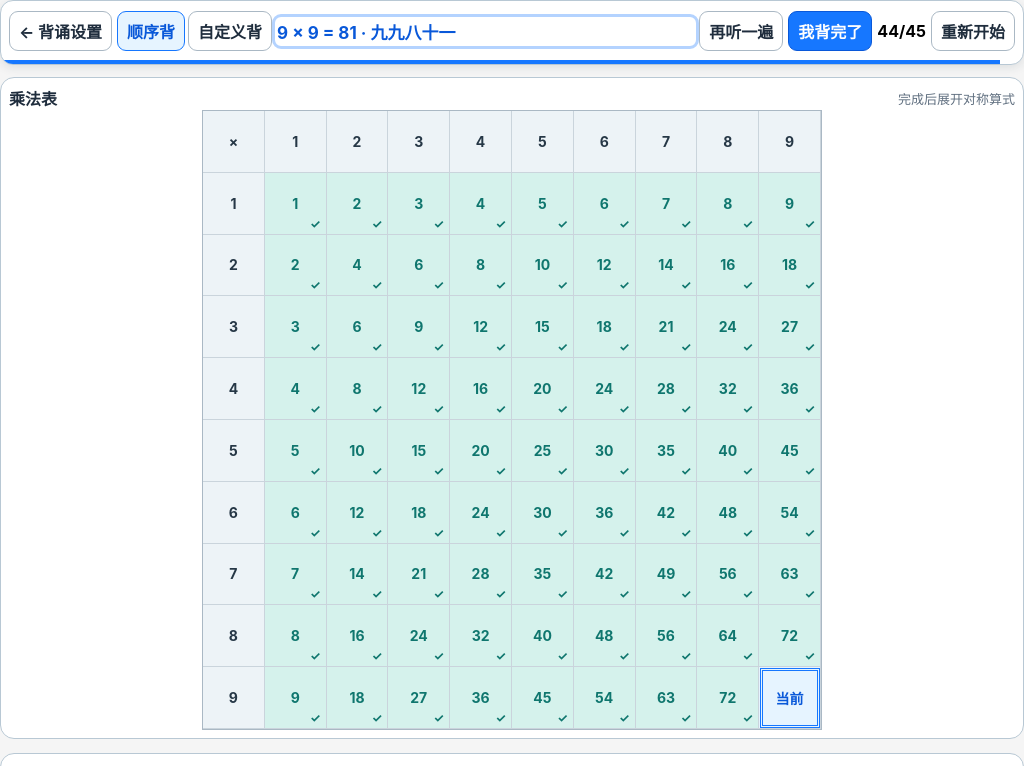
MultiplicationRecitation 顺序背与自定义背 › 第44句进入九九八十一，第45句进入完整完成态且不再领读
The width and height of the screenshot is (1024, 766).
Expected: the text "9 × 9 = 81 · 九九八十一" is shown, [277, 22, 456, 42]
Click the button "我背完了": x=830, y=31 [788, 11, 872, 51]
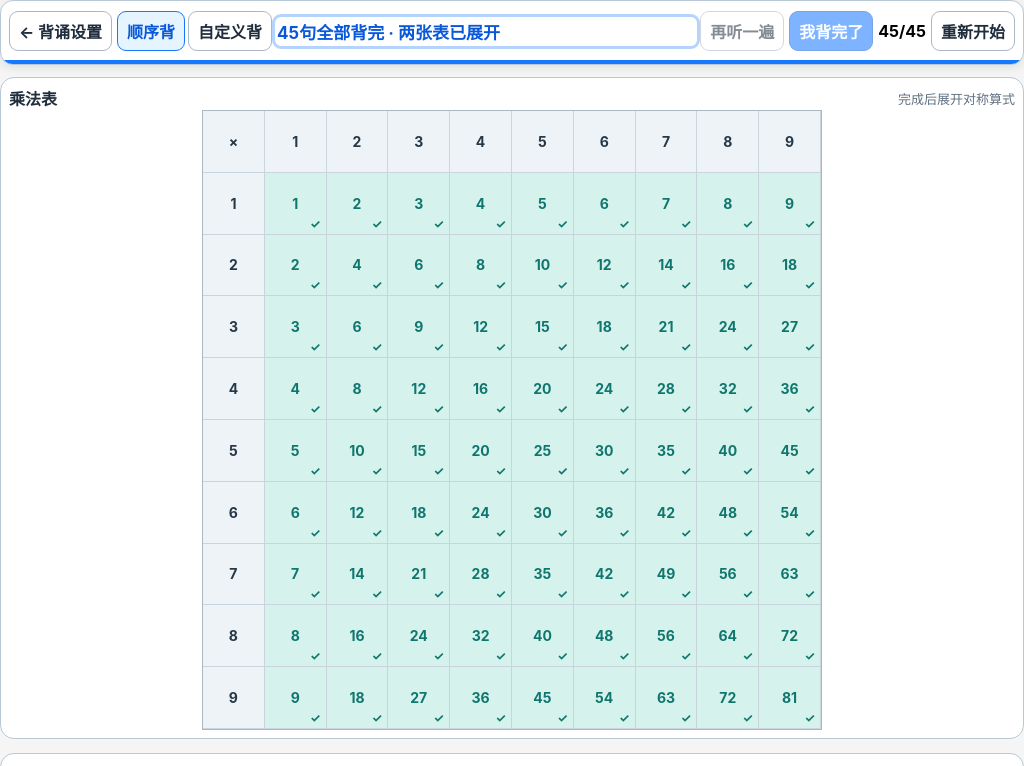
Expected: the text "45句全部背完 · 两张表已展开" is shown, [277, 22, 500, 42]
Expected: the text "45/45" is shown, [878, 21, 926, 41]
Expected: the button "再听一遍" is disabled, [700, 11, 784, 51]
